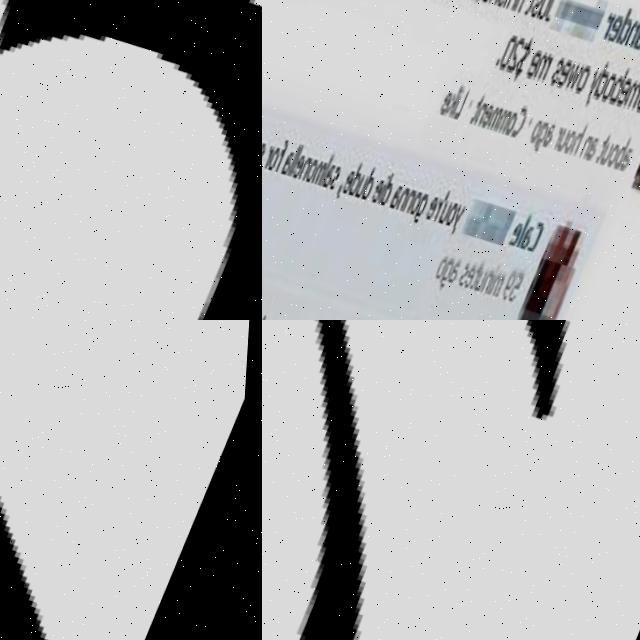1: (512, 277, 530, 307)
5: (504, 273, 523, 307)
7: (262, 320, 622, 640)
A: (543, 126, 561, 157), (621, 151, 639, 179), (390, 187, 408, 214), (523, 228, 540, 256), (324, 165, 341, 193), (451, 262, 467, 290), (283, 150, 299, 177), (587, 144, 603, 170), (633, 25, 640, 57)
B: (610, 72, 632, 112), (616, 139, 636, 175)
C: (0, 0, 262, 320), (512, 109, 534, 144), (530, 223, 551, 258)
D: (593, 65, 618, 106), (616, 9, 640, 50), (382, 173, 403, 210), (349, 164, 370, 201), (364, 167, 384, 204)
E: (525, 51, 547, 85), (510, 222, 531, 254), (556, 63, 576, 95), (607, 19, 626, 50), (438, 93, 458, 122), (618, 82, 636, 113), (343, 170, 360, 201), (481, 107, 498, 135), (427, 198, 444, 226), (295, 154, 310, 181), (373, 182, 389, 206), (466, 269, 482, 293), (480, 0, 501, 8)
F: (275, 140, 293, 176), (516, 0, 536, 17)
G: (441, 260, 460, 297), (534, 125, 553, 159), (415, 195, 434, 229)
H: (571, 126, 592, 163), (488, 0, 511, 9)
I: (452, 89, 468, 125), (380, 175, 395, 207), (491, 267, 506, 299), (513, 0, 529, 16), (503, 0, 518, 11)
J: (543, 0, 562, 30)
K: (447, 87, 466, 121)
L: (455, 90, 473, 127), (292, 143, 307, 179), (290, 143, 305, 179), (323, 154, 338, 189), (521, 219, 536, 252)
M: (535, 55, 557, 87), (498, 111, 517, 140), (624, 85, 640, 117), (314, 162, 331, 189), (489, 110, 507, 134), (493, 278, 511, 302)
N: (623, 24, 640, 56), (300, 157, 317, 185), (475, 104, 492, 131), (580, 141, 596, 169), (405, 191, 421, 219), (483, 274, 499, 302), (398, 189, 414, 216), (505, 0, 525, 17)
O: (575, 68, 596, 100), (603, 77, 621, 108), (410, 193, 428, 221), (447, 205, 464, 233), (268, 147, 285, 175), (438, 258, 455, 286), (306, 159, 322, 187), (609, 149, 625, 172), (565, 136, 580, 160), (507, 116, 522, 140), (532, 124, 547, 147), (634, 87, 640, 122)
R: (601, 17, 617, 44), (554, 129, 568, 156), (265, 146, 279, 169), (435, 203, 448, 225)
S: (550, 60, 568, 94), (330, 167, 347, 195), (460, 266, 476, 292), (529, 0, 546, 24), (262, 141, 271, 168), (496, 0, 513, 13)
T: (472, 263, 491, 296), (471, 99, 487, 130), (598, 139, 613, 169), (523, 0, 542, 22)
U: (534, 0, 556, 29), (357, 174, 375, 202), (440, 203, 457, 230), (558, 134, 573, 158), (477, 274, 492, 298), (604, 147, 618, 170)
W: (565, 66, 587, 98)
X: (0, 320, 260, 640)
Y: (583, 74, 605, 114), (451, 207, 470, 241)
